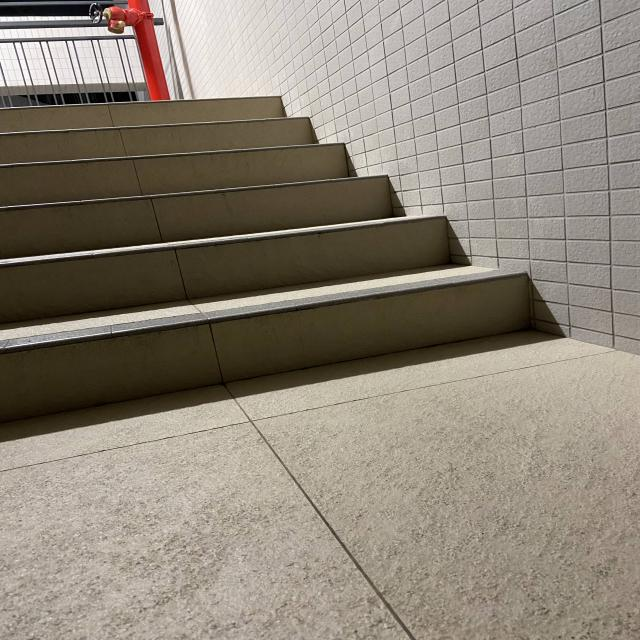Stairs: (0, 86, 566, 413)
